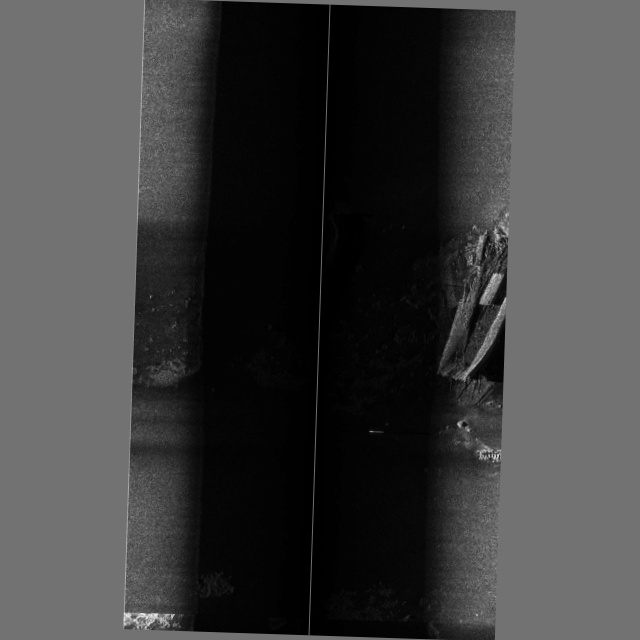Shipwreck: (434, 223, 508, 463)
